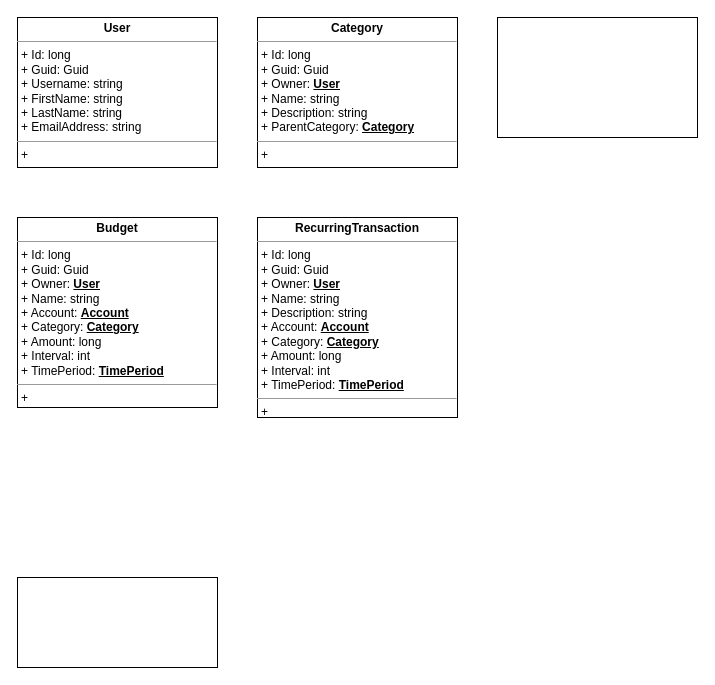
Image size: 715x685. Some labels were removed from this diagram. The centre of each missing label's shape, as x and y in pixels:
"Account + Id: long + Guid: Guid + Owner: User + Name: string +" belongs at (x=597, y=77).
"Enum: TimePeriod + Days + Weeks + Months + Years" belongs at (x=117, y=622).
